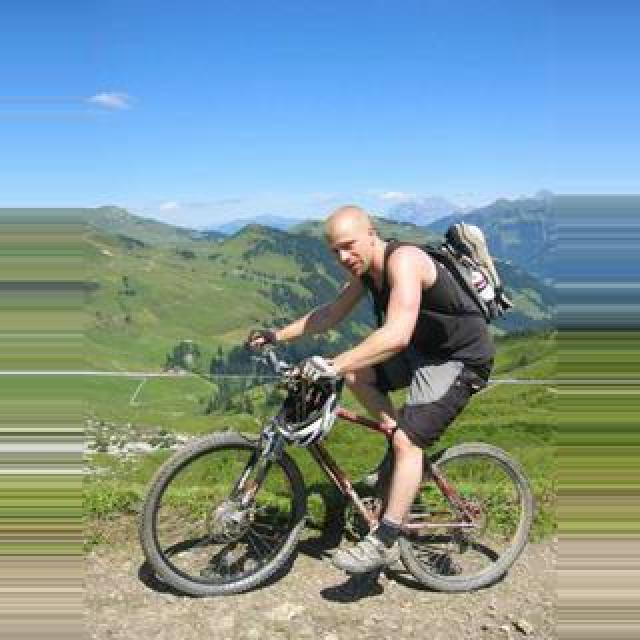MC-Bike: (242, 212, 512, 582)
Person: (144, 345, 540, 599)
